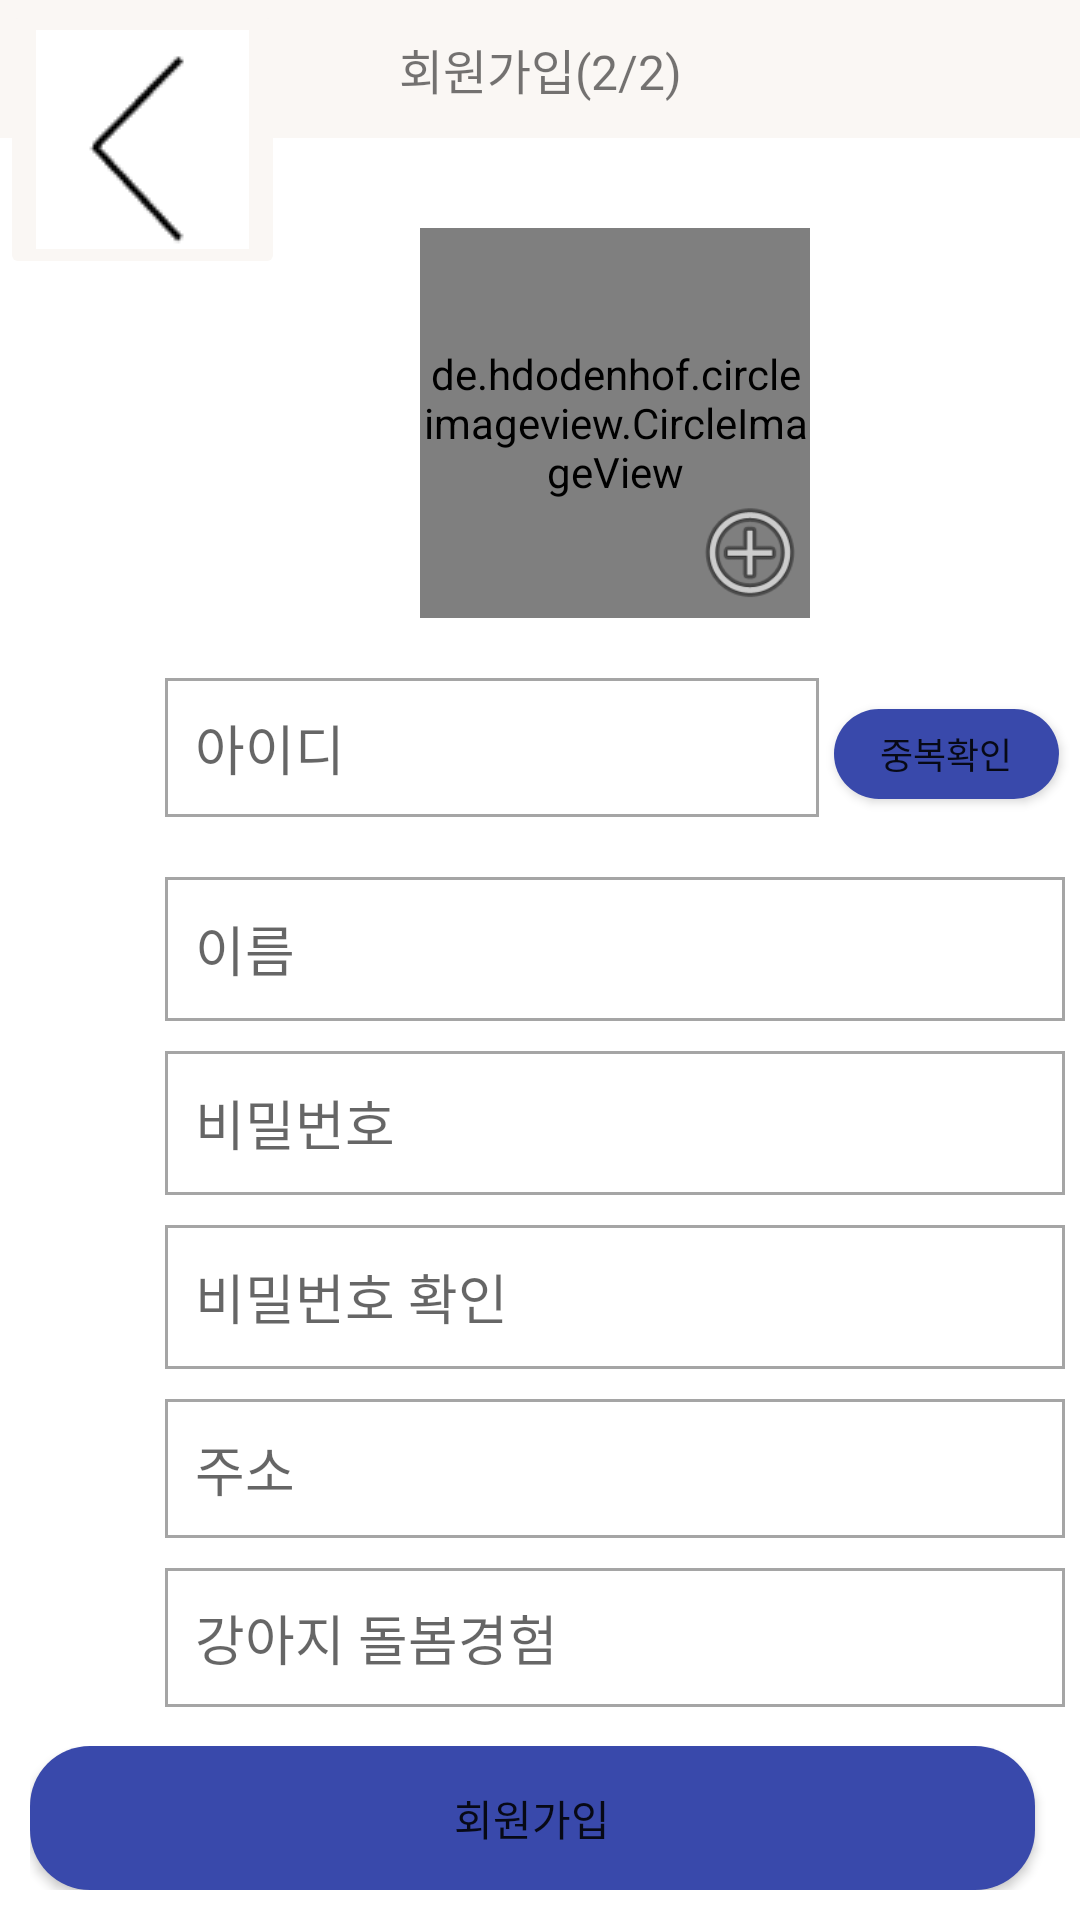

Named icons in this screenshot (1080*1920) and their bounding boxes, (x1, y1, x2, y2):
add: (706, 508, 794, 597)
arrow: (90, 56, 184, 242)
